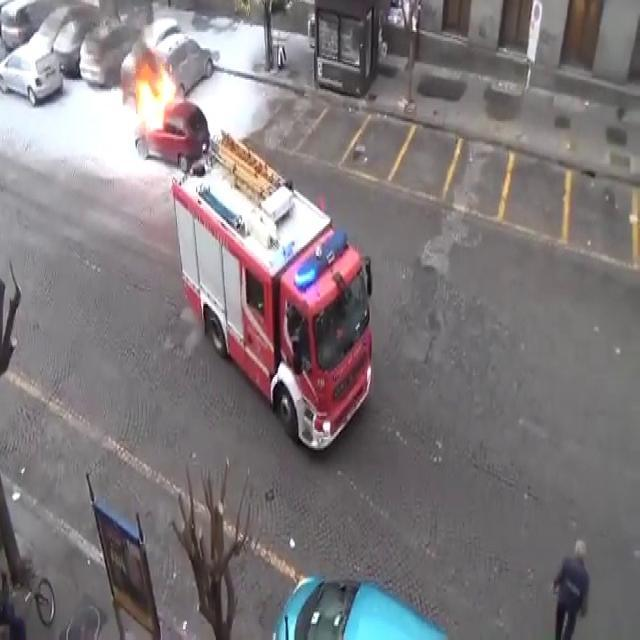Fire: (130, 56, 180, 138)
